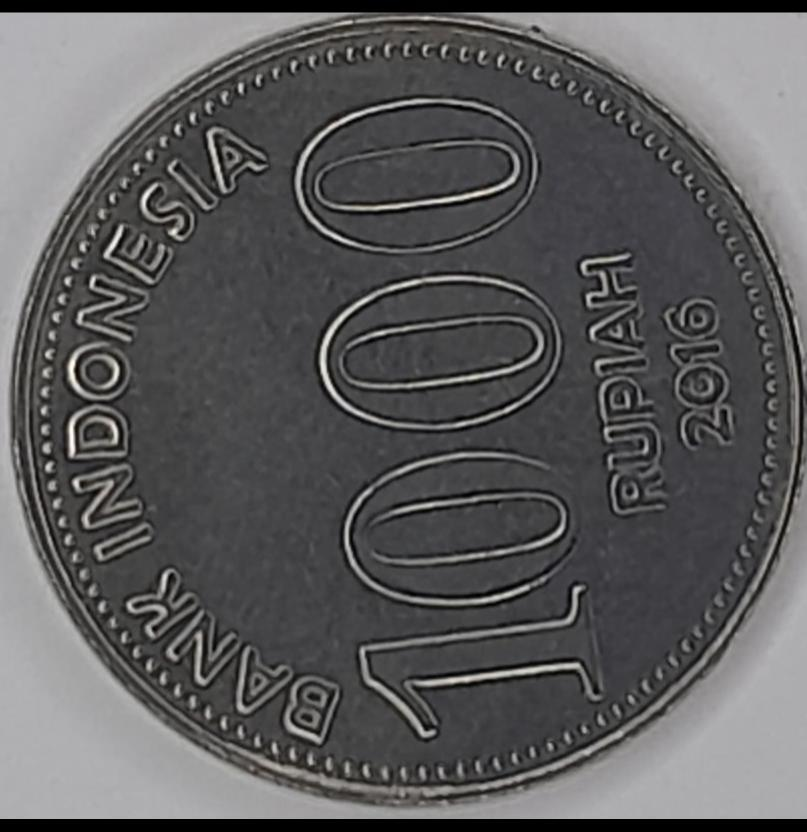coin_1000_e2016: (14, 16, 796, 832)
